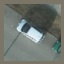car: (15, 18, 45, 44)
